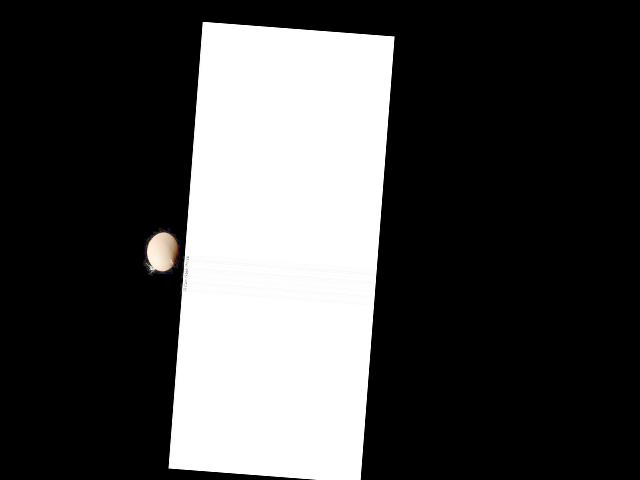egg: (146, 230, 180, 272)
